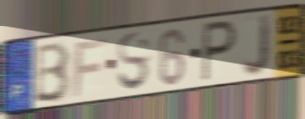6: (157, 26, 186, 88)
B: (33, 40, 72, 106)
F: (71, 35, 109, 99)
J: (241, 13, 273, 79)
P: (200, 18, 238, 84)
S: (116, 30, 151, 94)
